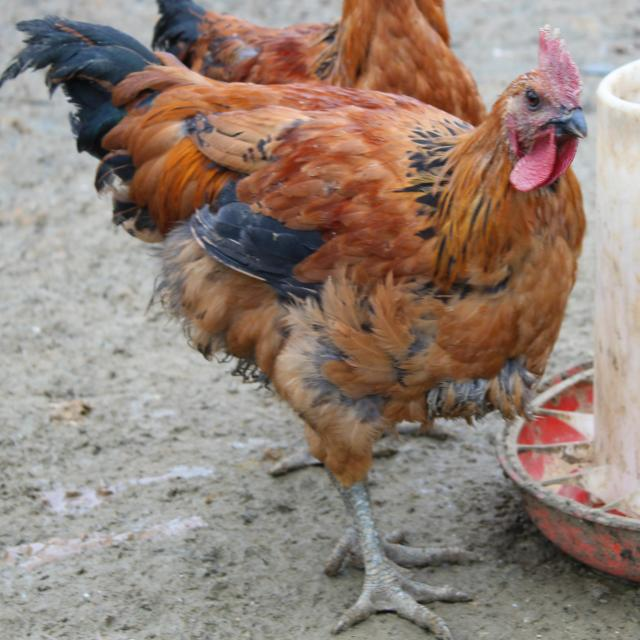hen: (0, 18, 589, 640)
